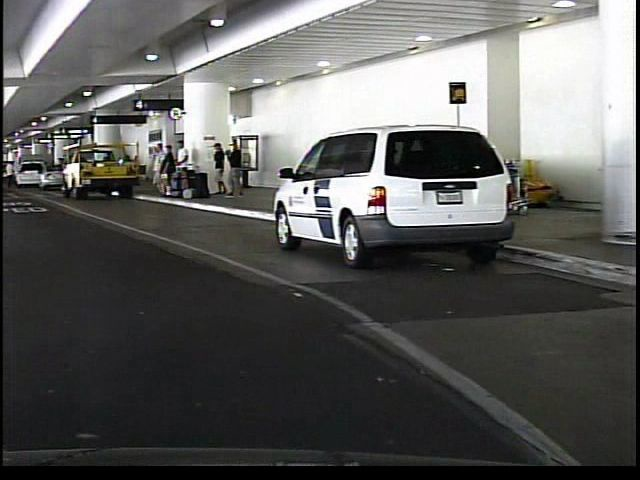person: (223, 140, 239, 199), (144, 141, 159, 198)
